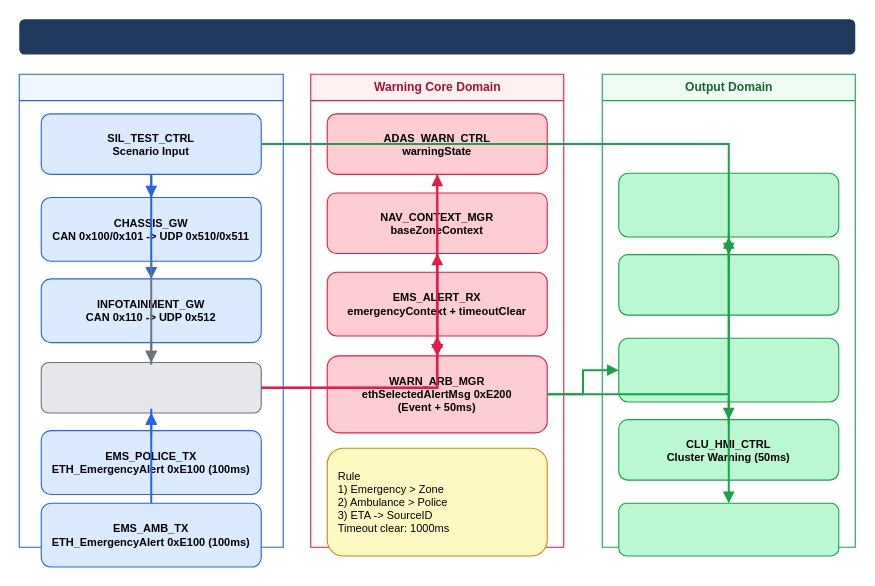
This 875x586 diagram has some shape labels left out. Here are the shapes that lost their labels. From the top down, the box of each, then its label:
(19, 19, 855, 54): 1. Concept Design — Option 1 Domain & Warning Core
(618, 172, 839, 237): BODY_GW 0xE200 -> CAN 0x210
(618, 254, 839, 315): BCM_AMBIENT_CTRL Ambient Output (50ms)
(18, 73, 283, 547): Input / Gateway Domain
(40, 361, 261, 413): ETH_SWITCH
(618, 337, 839, 402): IVI_GW 0xE200 -> CAN 0x220
(618, 502, 839, 556): frmTestResultMsg 0x230 (Event)
